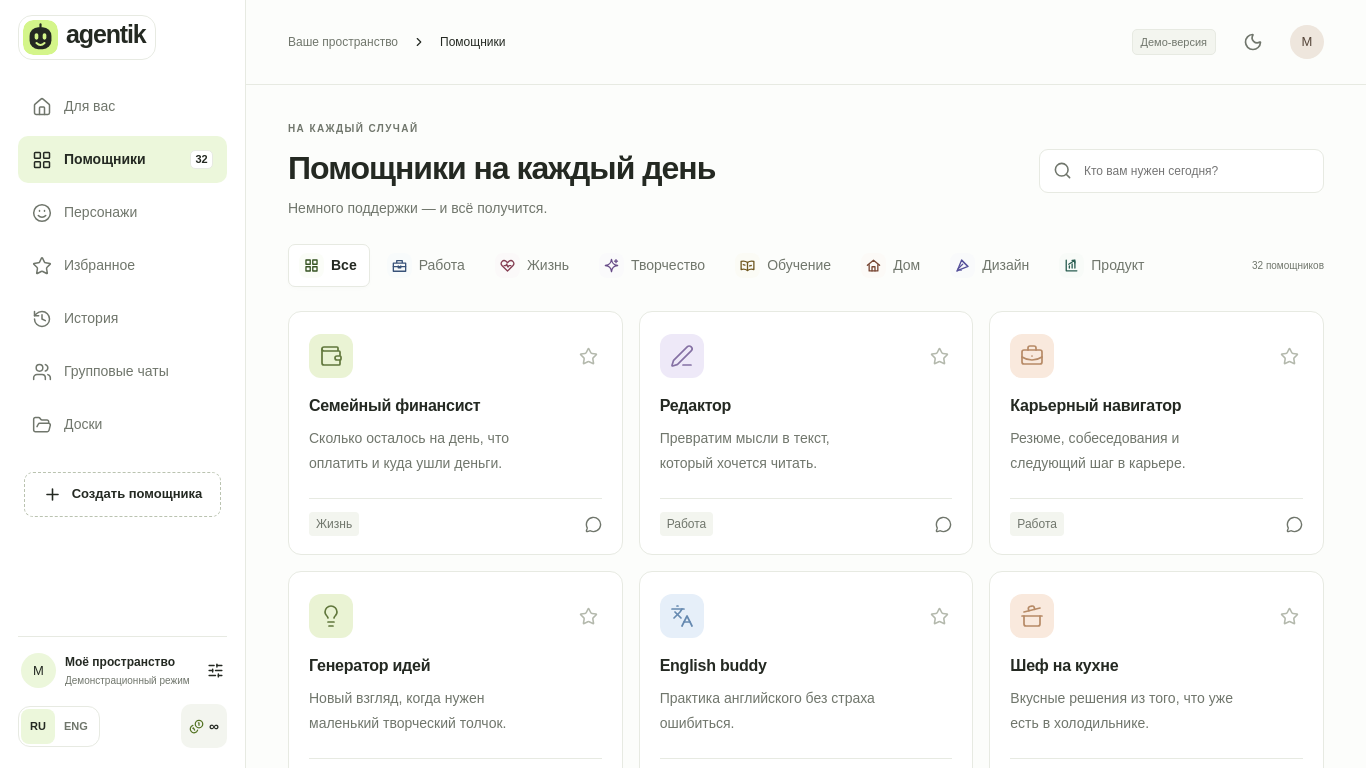
it: preserves an edited draft when retrying the previously failed message
Click the link with aria-label "Открыть: Редактор" at [806, 466], box [640, 378, 972, 554]
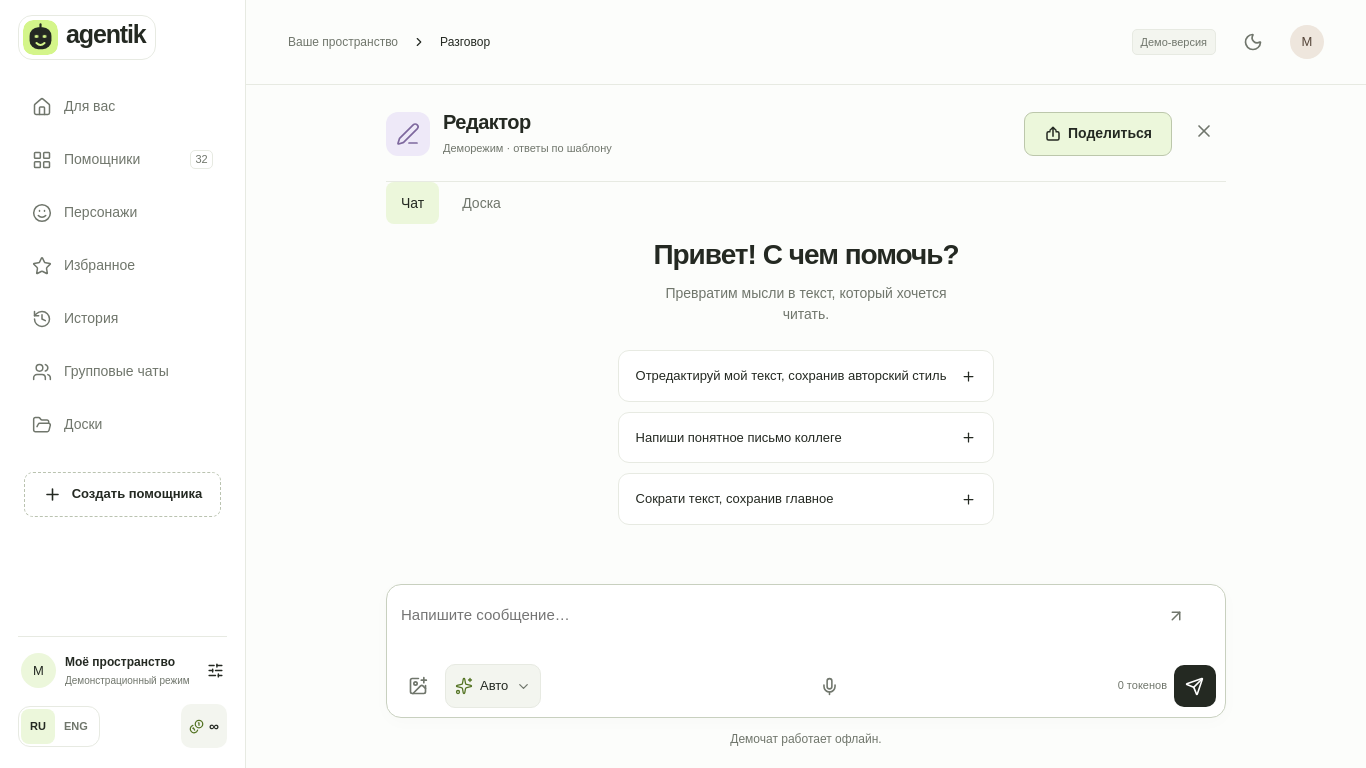
Type "Первый текст" into the text box named "Ваше сообщение" at [806, 626], box [396, 594, 1216, 659]
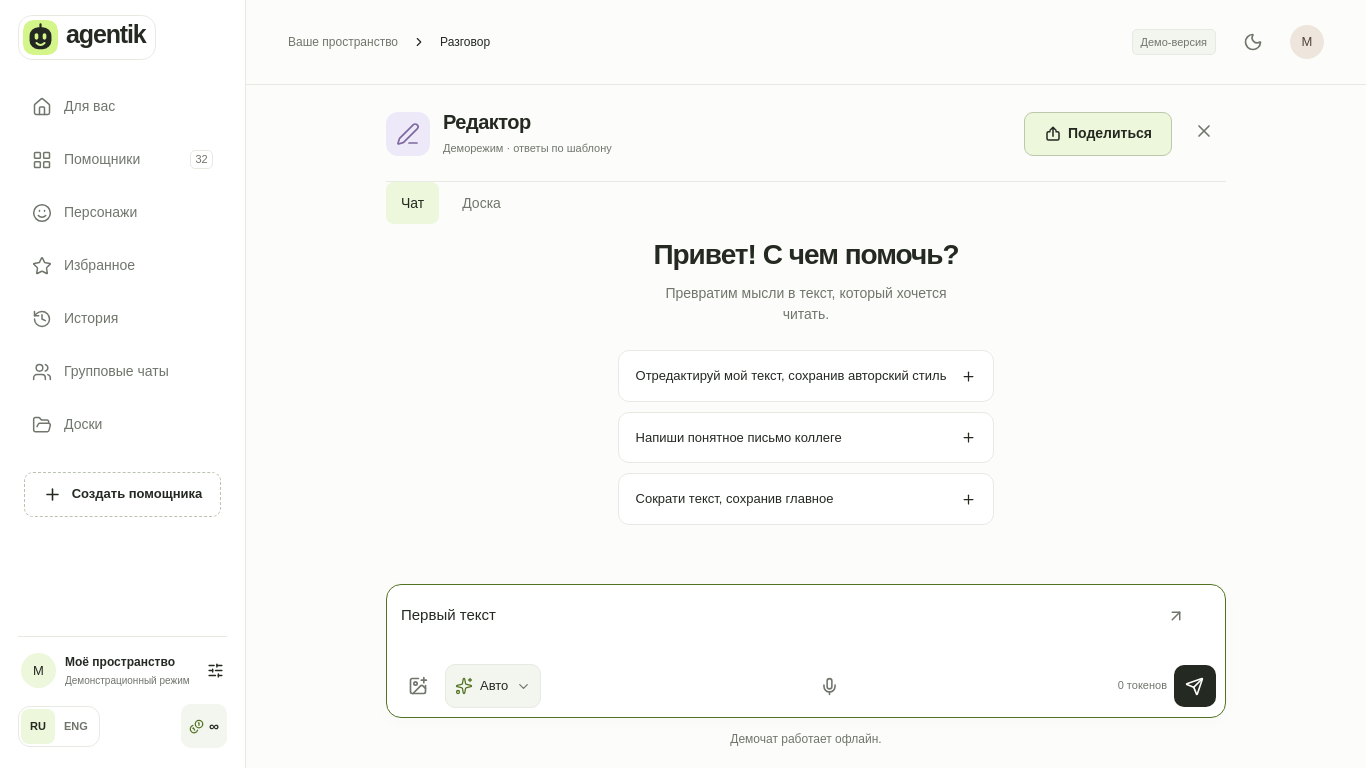
Click the button named "Отправить сообщение" at [1195, 686], box [1174, 665, 1216, 707]
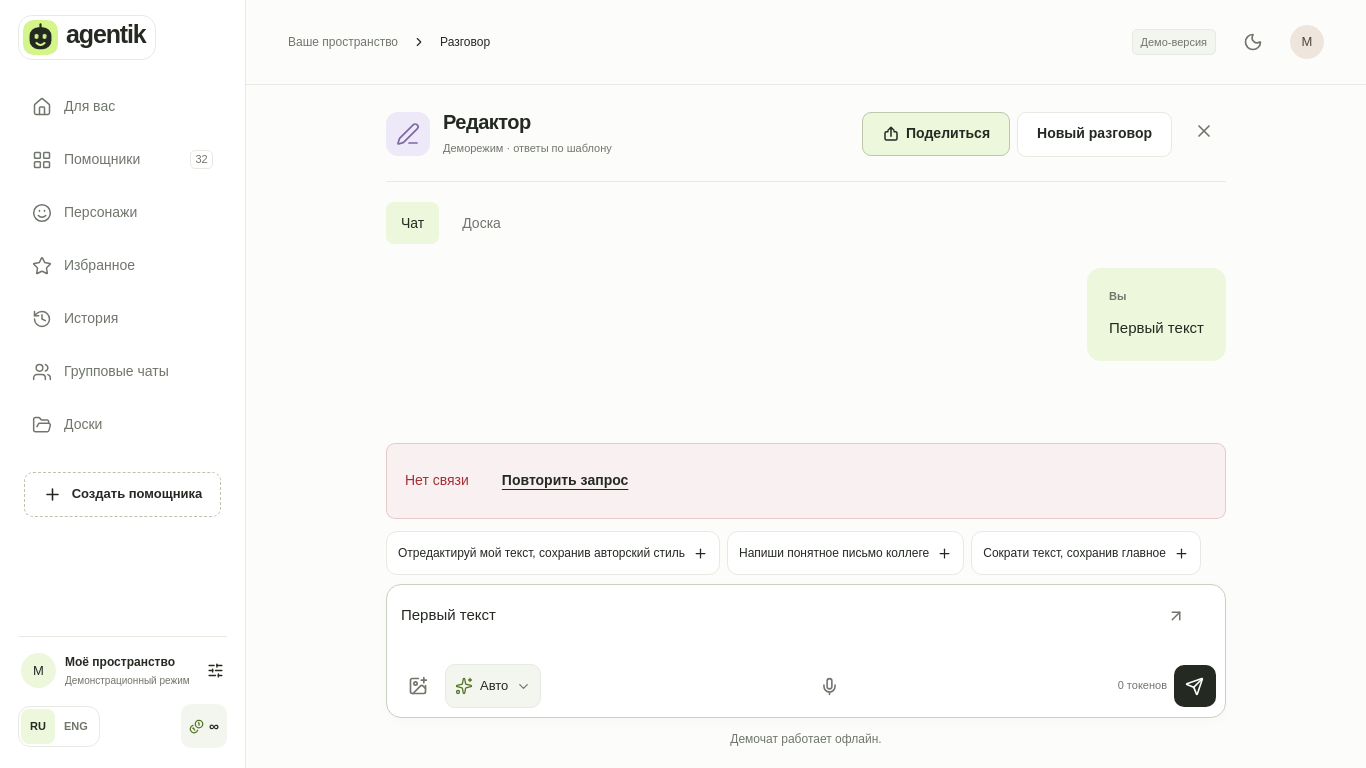
Check: the message "Нет связи Повторить запрос" is shown, box [386, 443, 1226, 519]
Replace the text in the text box named "Ваше сообщение" with "Новый черновик" at [806, 626], box [396, 594, 1216, 659]
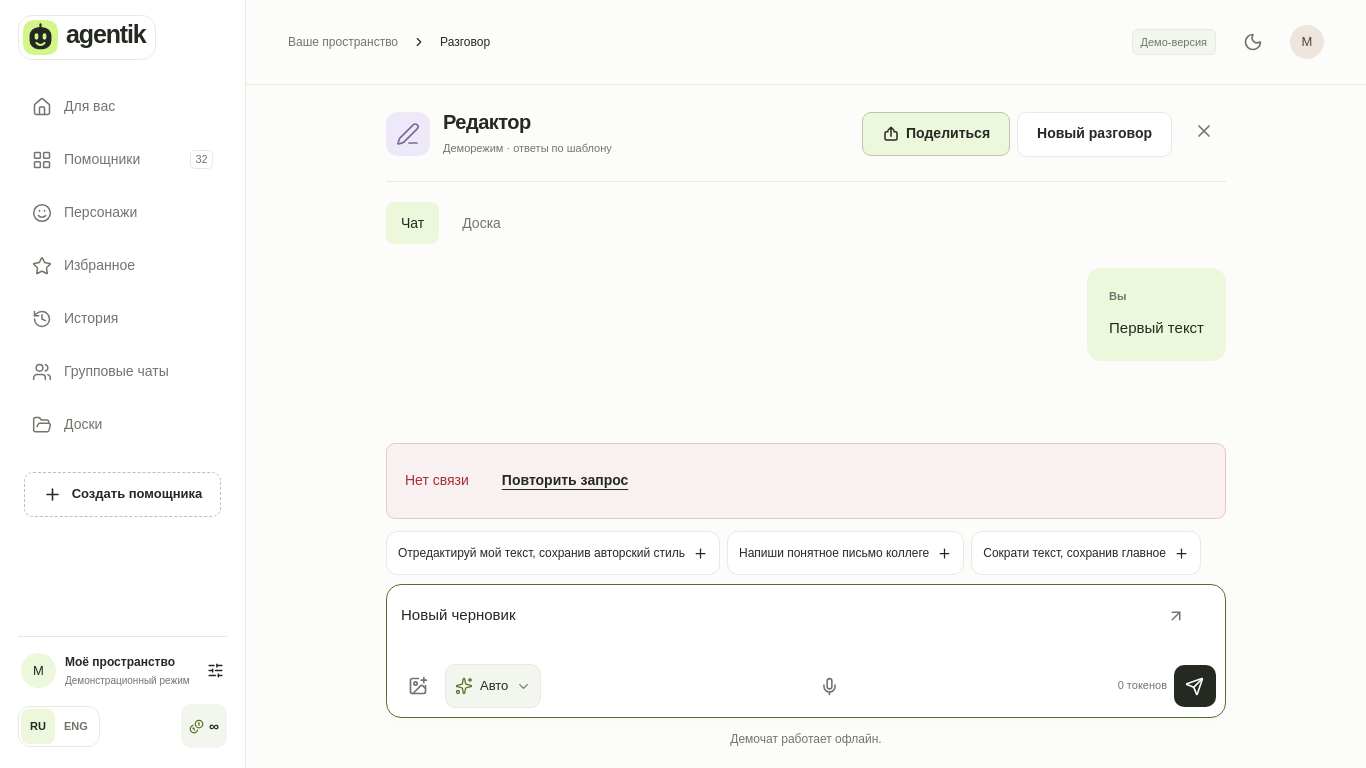
Click the button "Повторить запрос" at [565, 481], box [483, 459, 647, 503]
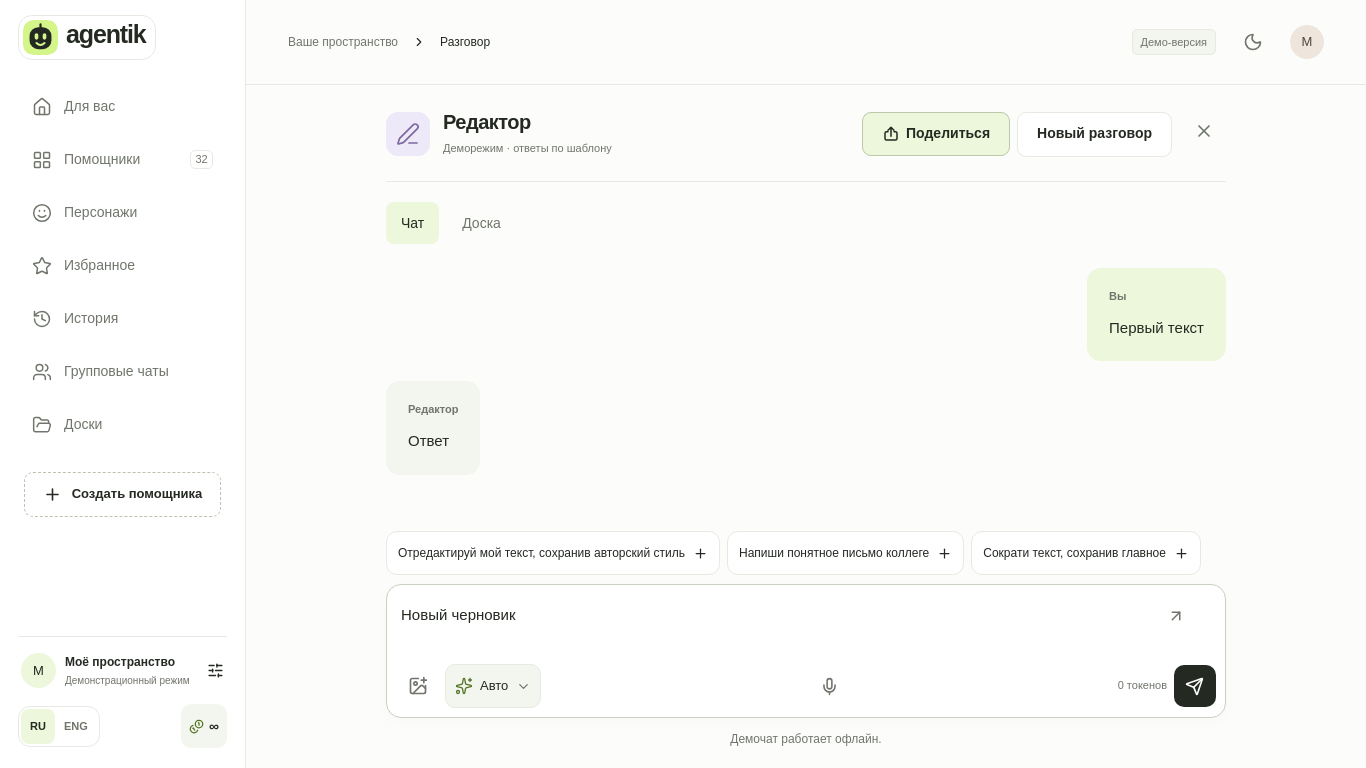
Check: the text "Ответ" is shown, box [408, 432, 449, 449]
